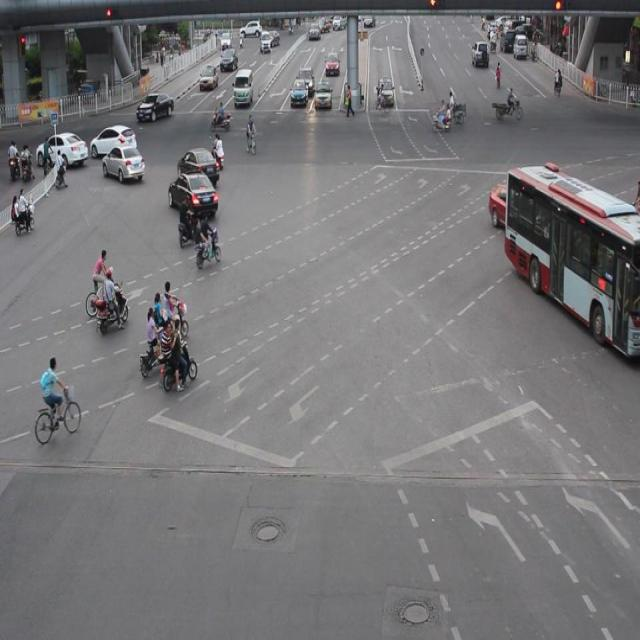car: (169, 170, 218, 218), (38, 132, 88, 168), (178, 146, 219, 187), (90, 123, 138, 158), (102, 144, 145, 180), (488, 182, 516, 230), (136, 91, 174, 122)
van: (504, 168, 640, 358)
